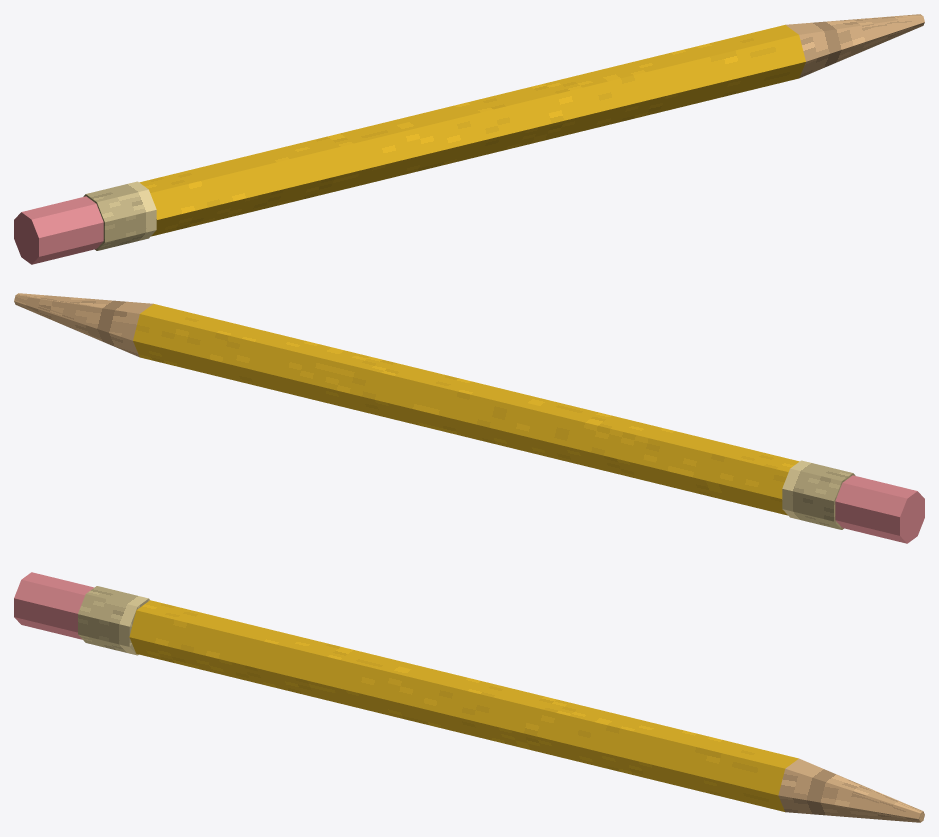
File: pencil.glb
The picture shows the model from 3 angles, top to bottom: view 1: azimuth 30°, elevation 25°; view 2: azimuth 150°, elevation 25°; view 3: azimuth 330°, elevation 25°; orthographic projection.
Parts seen in each view (by area): view 1: block_body, block_eraser, block_tip, block_ferrule; view 2: block_body, block_eraser, block_tip, block_ferrule; view 3: block_body, block_tip, block_eraser, block_ferrule.
Boxes of the visible parts, x1=… form: block_body: x1=139, y1=25, x2=805, y2=236; block_eraser: x1=14, y1=196, x2=103, y2=264; block_tip: x1=785, y1=14, x2=924, y2=78; block_ferrule: x1=83, y1=181, x2=156, y2=250; block_body: x1=133, y1=304, x2=799, y2=515; block_eraser: x1=835, y1=475, x2=924, y2=543; block_tip: x1=14, y1=293, x2=153, y2=357; block_ferrule: x1=782, y1=460, x2=855, y2=529; block_body: x1=129, y1=600, x2=798, y2=811; block_tip: x1=778, y1=758, x2=924, y2=822; block_eraser: x1=14, y1=572, x2=93, y2=639; block_ferrule: x1=78, y1=586, x2=149, y2=655.
Bounding box in the file's own units: 0.138 × 0.00721 × 0.0074.
2 materials, 2 textured.
